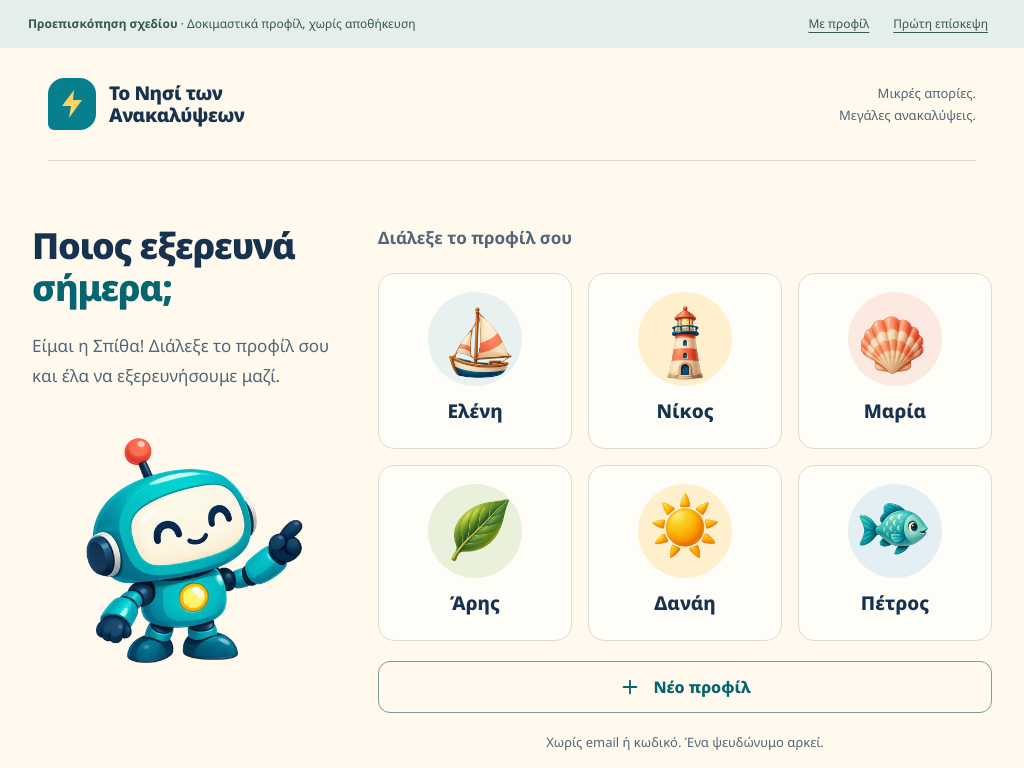
Test: map › shows five open topics with their progress
Click the button with aria-label "Νίκος, Φάρος": (685,360) [588,272,782,448]
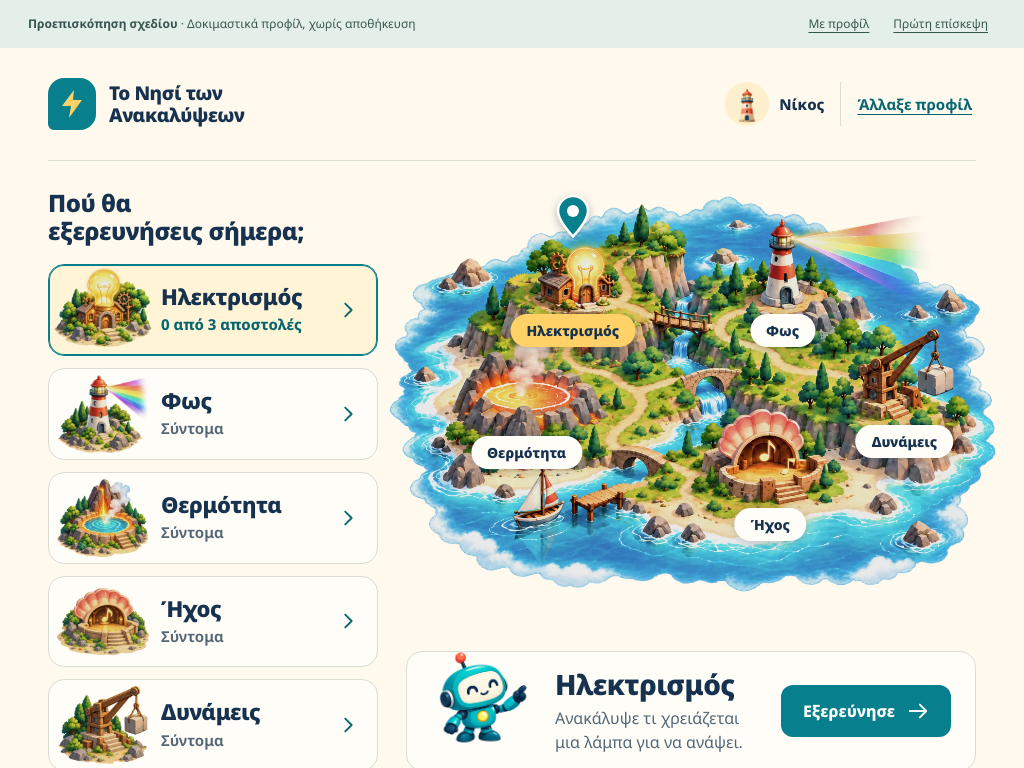
Check: the link with aria-label "Ηλεκτρισμός, 0 από 3 αποστολές" is shown, box [48,264,378,356]
Check: the link with aria-label "Φως, Σύντομα" is shown, box [48,368,378,460]
